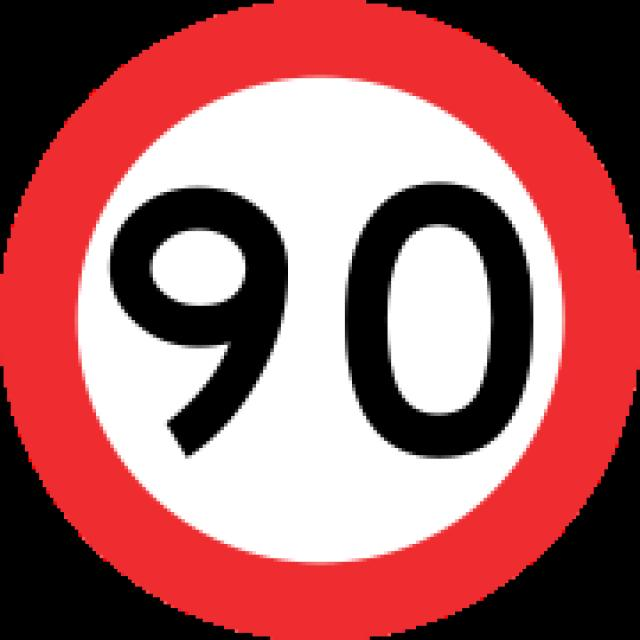Speed Limit -90-: (99, 176, 541, 460)
